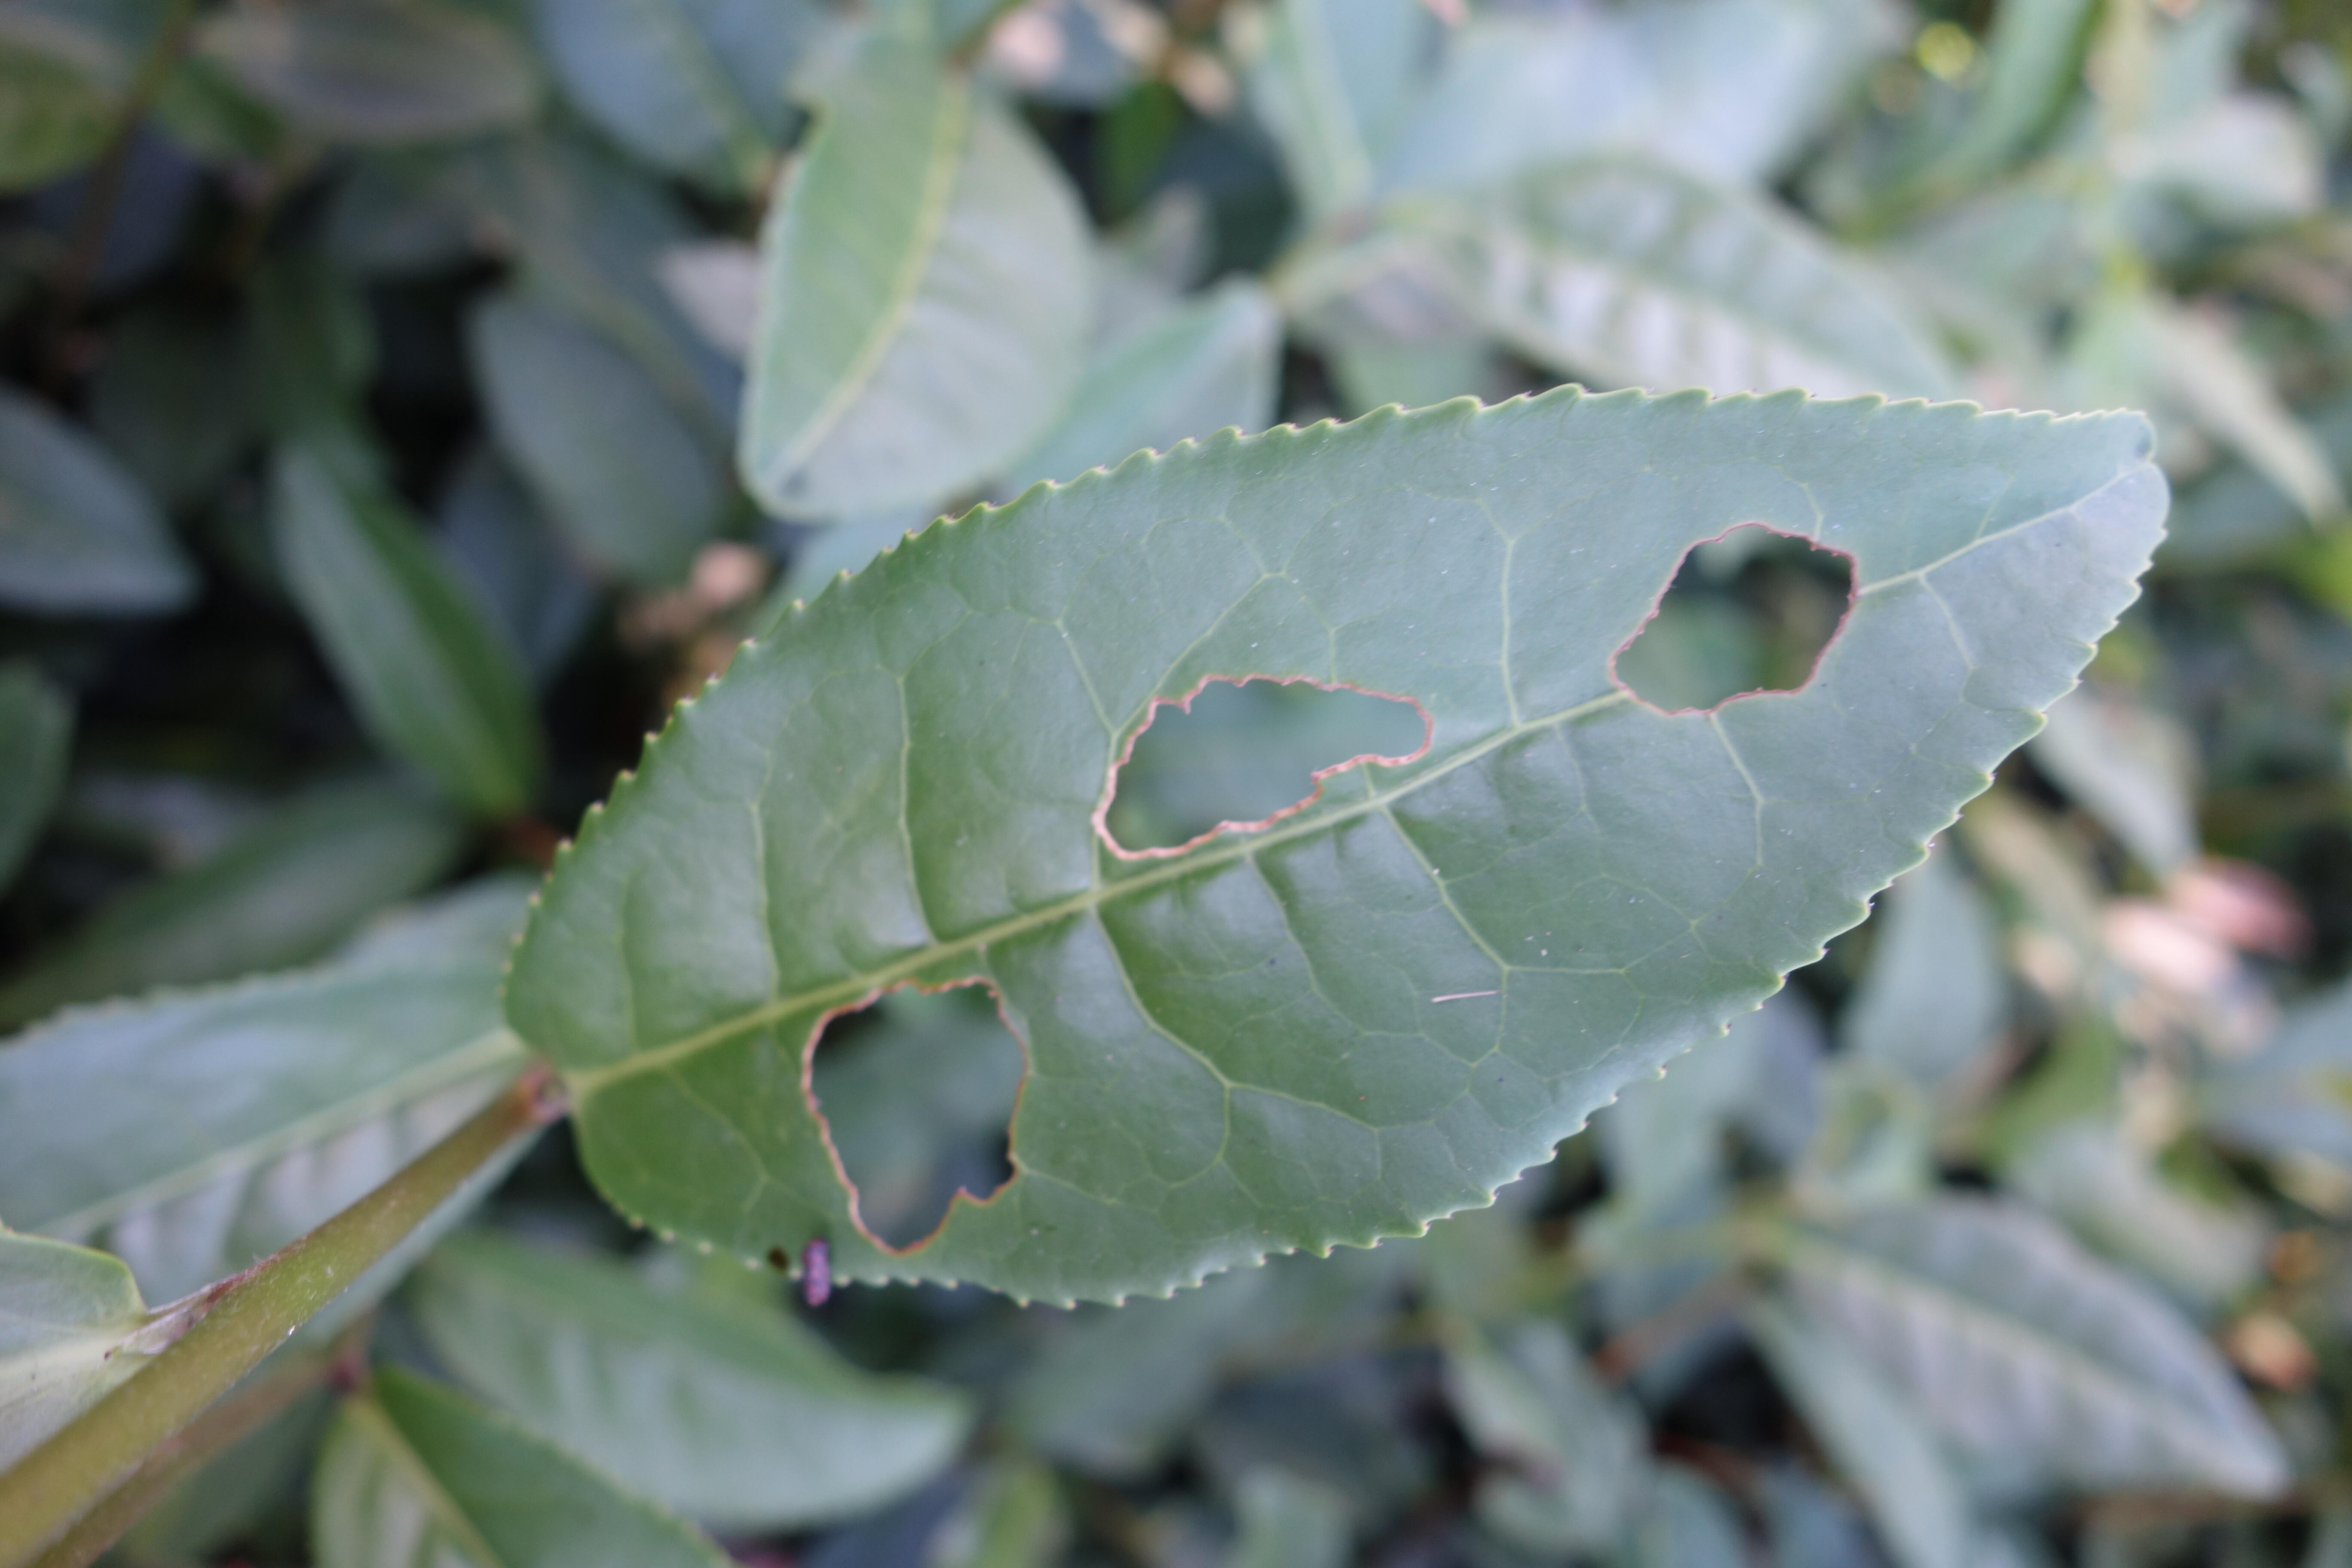chihuo_high: (502, 381, 2173, 1316)
